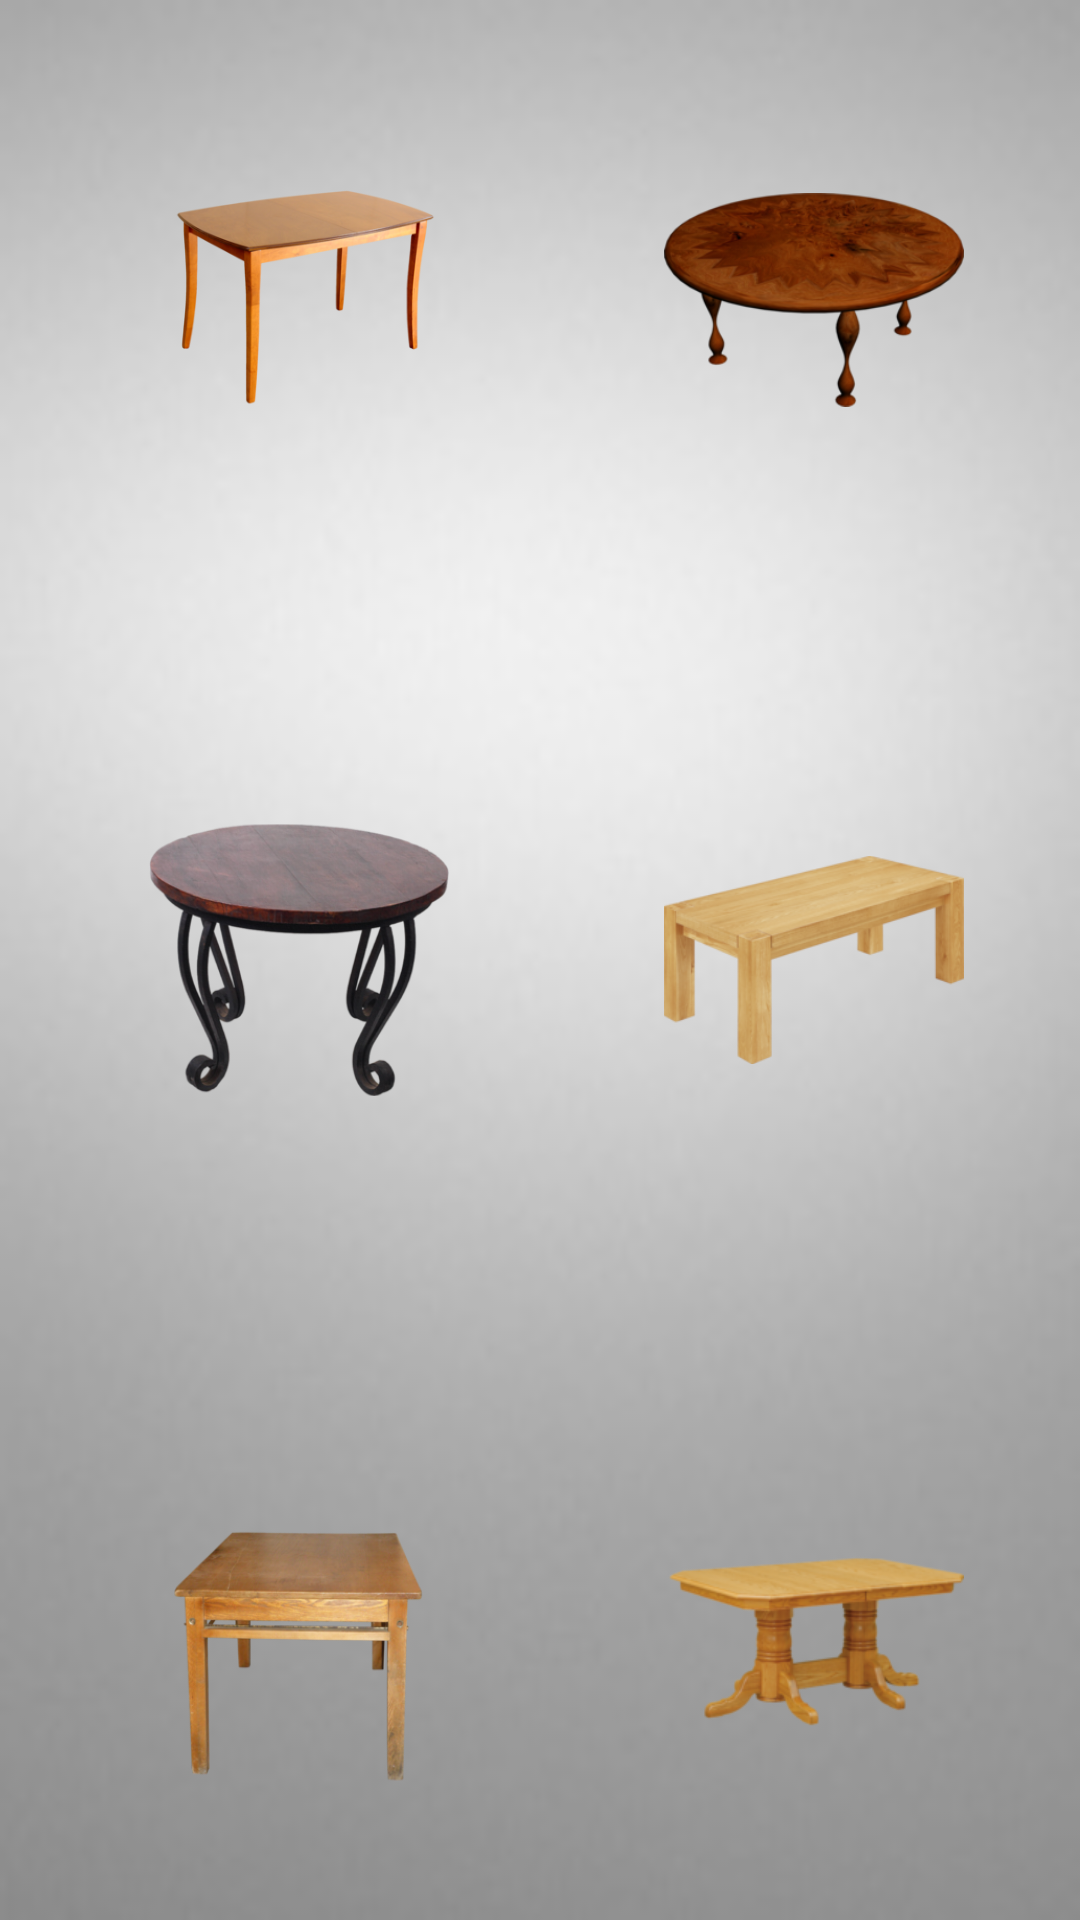

Where icons sit on this 1080x1920 app screen, as (x1, y1, x2, y2):
table: (149, 191, 449, 450), (664, 193, 964, 450), (664, 816, 964, 1064), (149, 824, 449, 1110), (149, 1532, 449, 1791), (670, 1558, 964, 1725)
